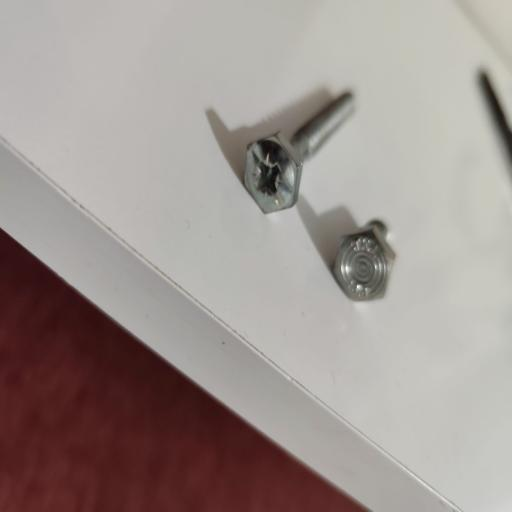Hex-Allen: (330, 226, 398, 308)
Pozidriv: (239, 125, 301, 216)
